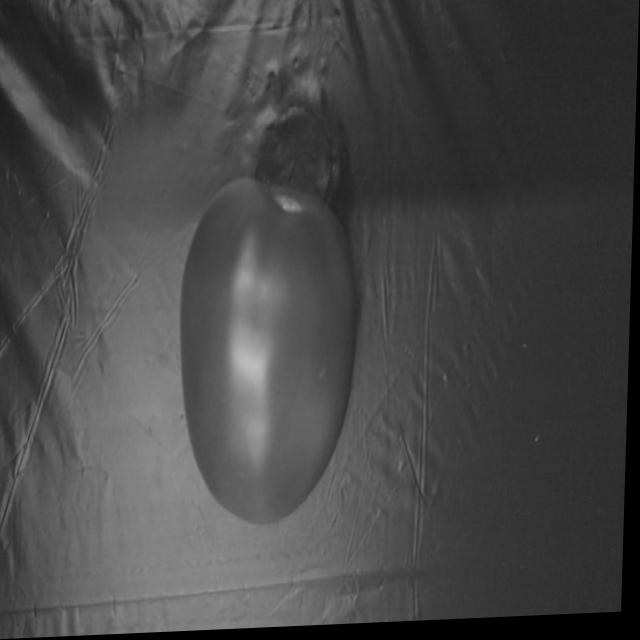kirmizi: (172, 172, 365, 531)
